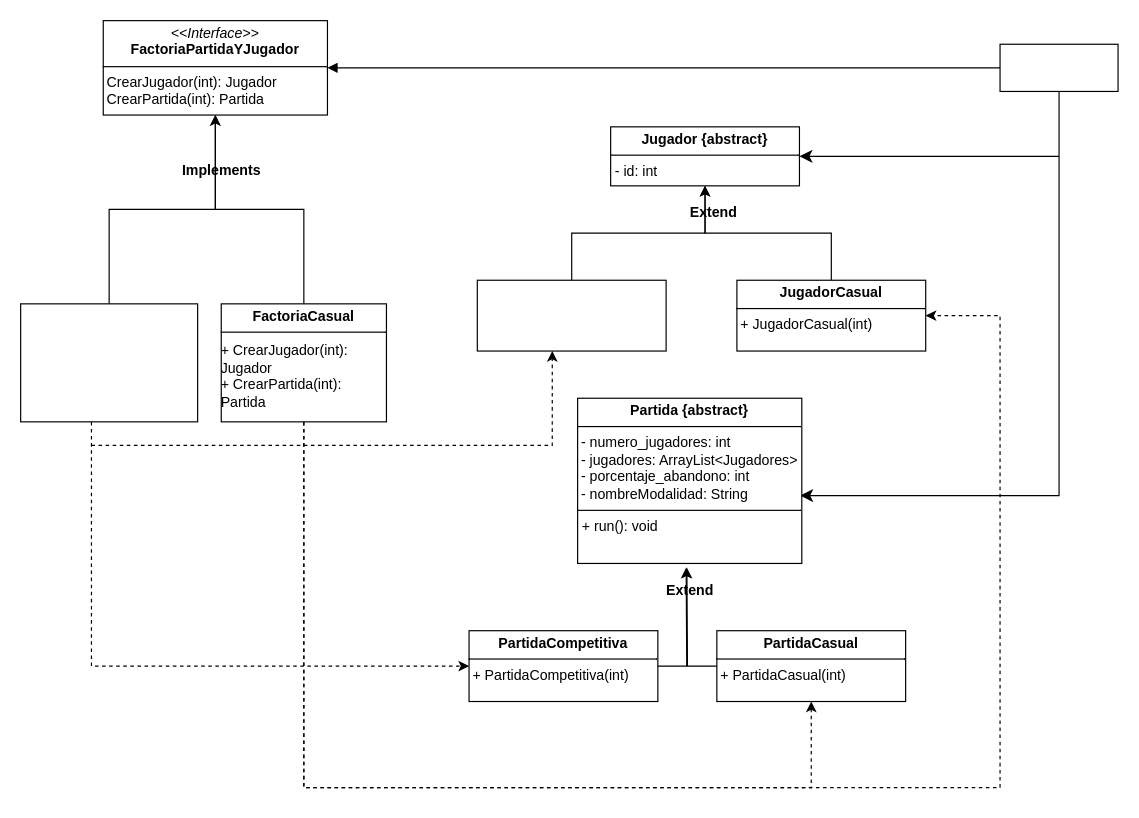
Image size: 1139x818. Some labels were removed from this diagram. The box of each missing label's shape, as (x1, y1, x2, y2) in pixels:
Cliente: (999, 43, 1118, 91)
FactoriaCompetitiva + CrearJugador(int): Jugador + CrearPartida(int): Partida: (19, 303, 198, 422)
JugadorCompetitivo + JugadorCompetitivo(int): (476, 279, 666, 351)
